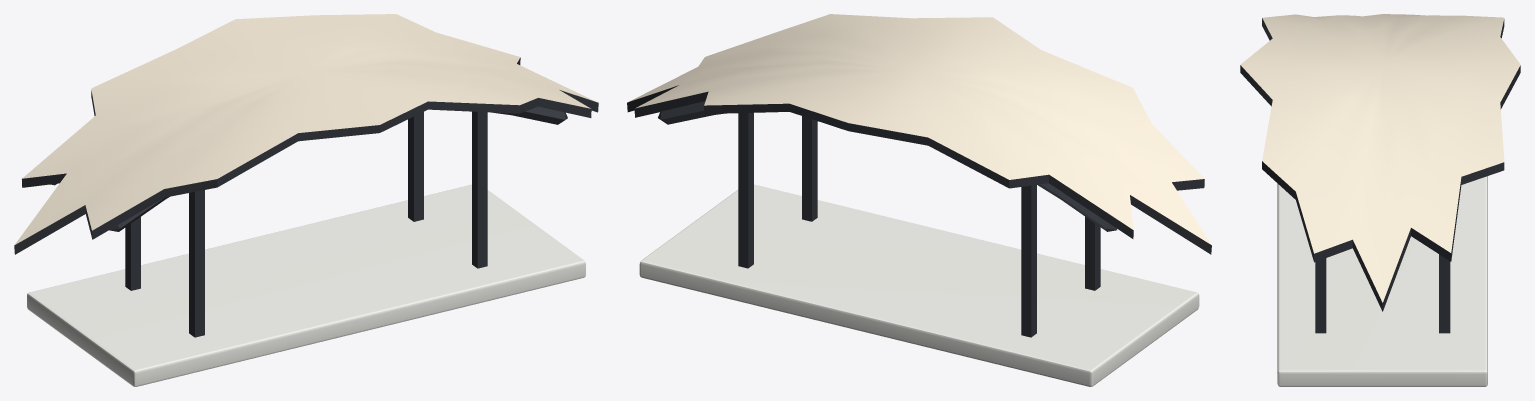
The model's file is RotTapaTecho.fbx.
The picture shows the model from 3 angles, left to right: view 1: azimuth 30°, elevation 25°; view 2: azimuth 150°, elevation 25°; view 3: azimuth 270°, elevation 25°; orthographic projection. The views are drawn at different scales.
Visible parts, largest first — view 1: RotTapaTecho; view 2: RotTapaTecho; view 3: RotTapaTecho.
Part boxes in pixels (x1,y1,x2,y2): RotTapaTecho: (14, 14, 598, 386); RotTapaTecho: (627, 14, 1211, 386); RotTapaTecho: (1240, 14, 1520, 386).
Size of the model in its own units: 10.58 by 3.99 by 4.53.
1 material, 1 textured.
